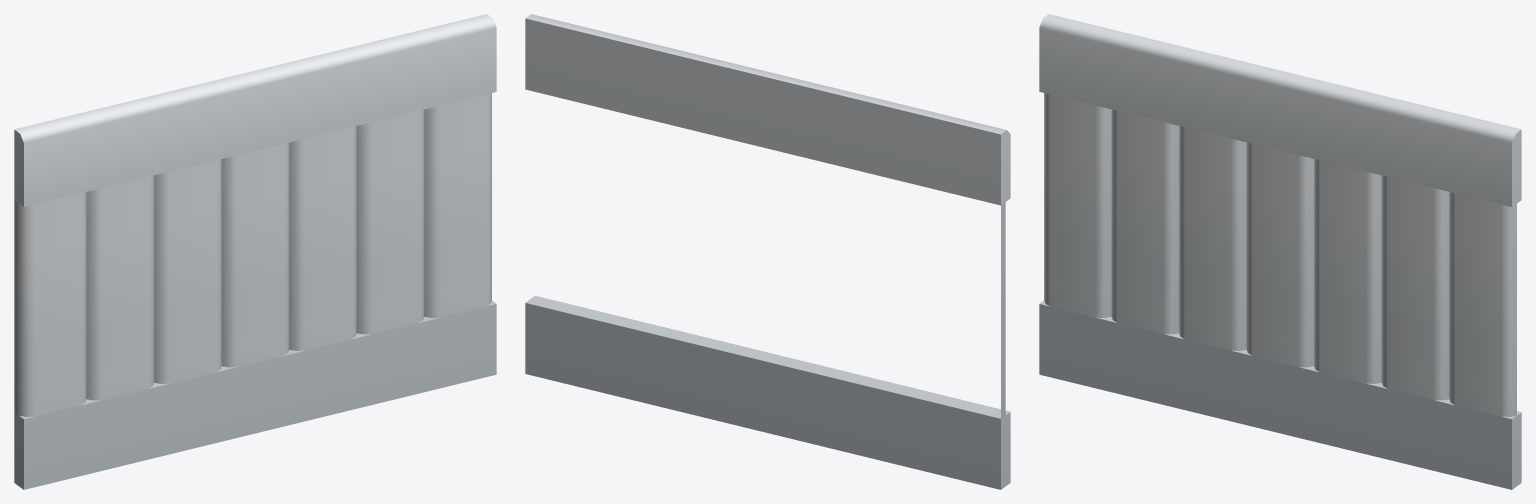
Rendered from Panel_White_03.glb.
3 renders of one model, left to right at view 1: azimuth 30°, elevation 25°; view 2: azimuth 150°, elevation 25°; view 3: azimuth 330°, elevation 25°, orthographic.
Visible parts, largest first — view 1: Panel_White_03; view 2: Panel_White_03; view 3: Panel_White_03.
Part boxes in pixels (box(x1,y1,x2,y2)): Panel_White_03: box(14, 14, 496, 489); Panel_White_03: box(525, 14, 1010, 489); Panel_White_03: box(1039, 14, 1521, 489).
Bounding box in the file's own units: 1.4 × 1 × 0.05.
1 material, 1 textured.
